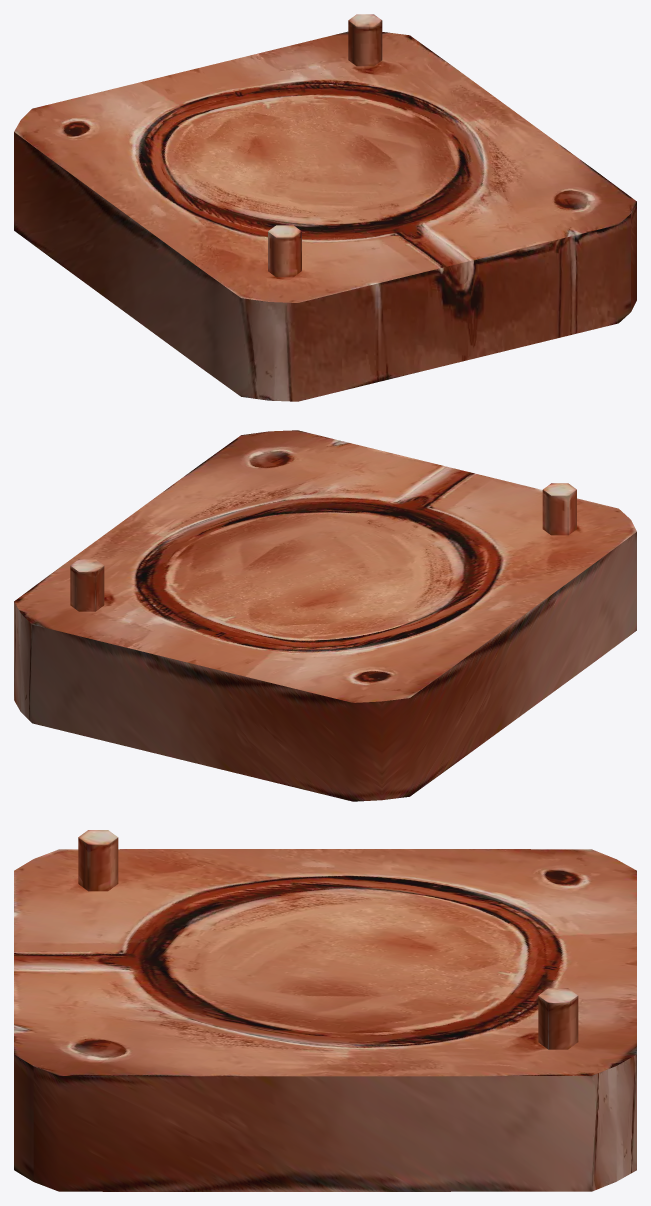
The picture shows the model from 3 angles, top to bottom: view 1: azimuth 30°, elevation 25°; view 2: azimuth 150°, elevation 25°; view 3: azimuth 270°, elevation 25°; orthographic projection. The views are drawn at different scales.
Visible parts, largest first — view 1: SM_Bracelet_Mould_01_LOD0; view 2: SM_Bracelet_Mould_01_LOD0; view 3: SM_Bracelet_Mould_01_LOD0.
Part boxes in pixels (x1,y1,x2,y2): SM_Bracelet_Mould_01_LOD0: (14, 14, 636, 401); SM_Bracelet_Mould_01_LOD0: (14, 430, 636, 801); SM_Bracelet_Mould_01_LOD0: (14, 830, 636, 1191).
Bounding box in the file's own units: 0.2735 × 0.0912 × 0.3171.
Materials: 1 (1 with a texture image).
